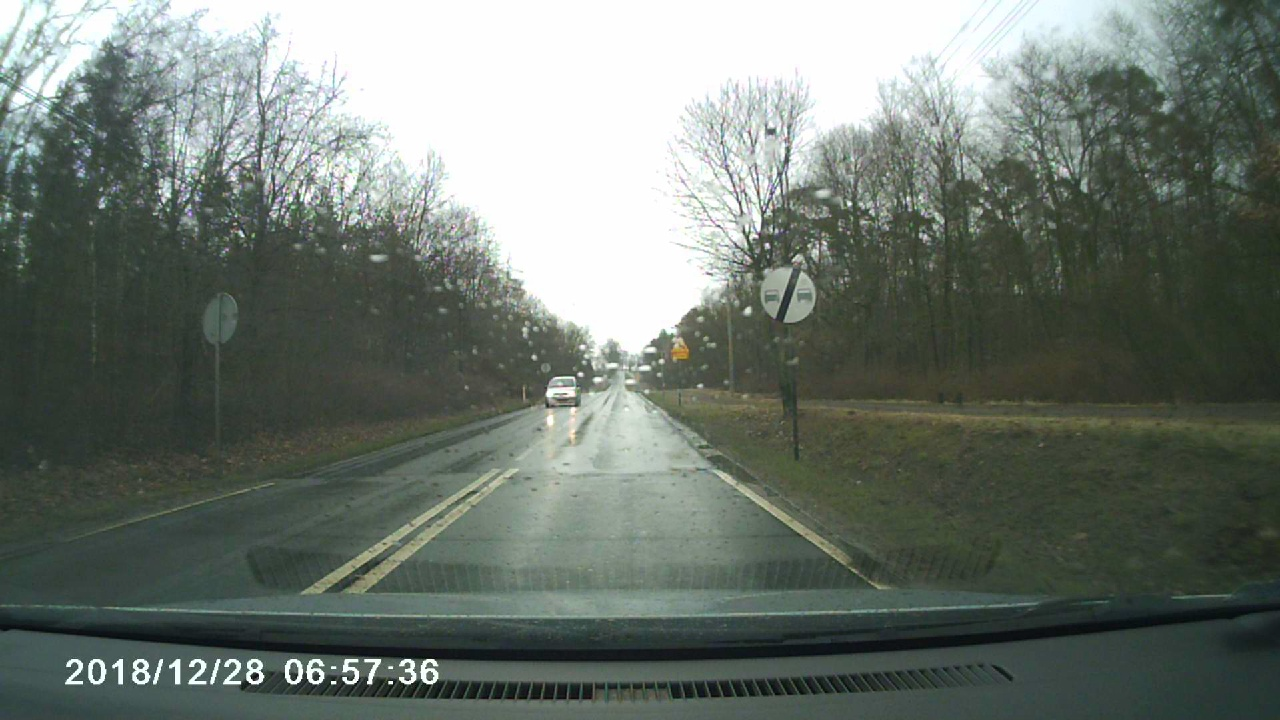B27: (752, 261, 823, 324)
